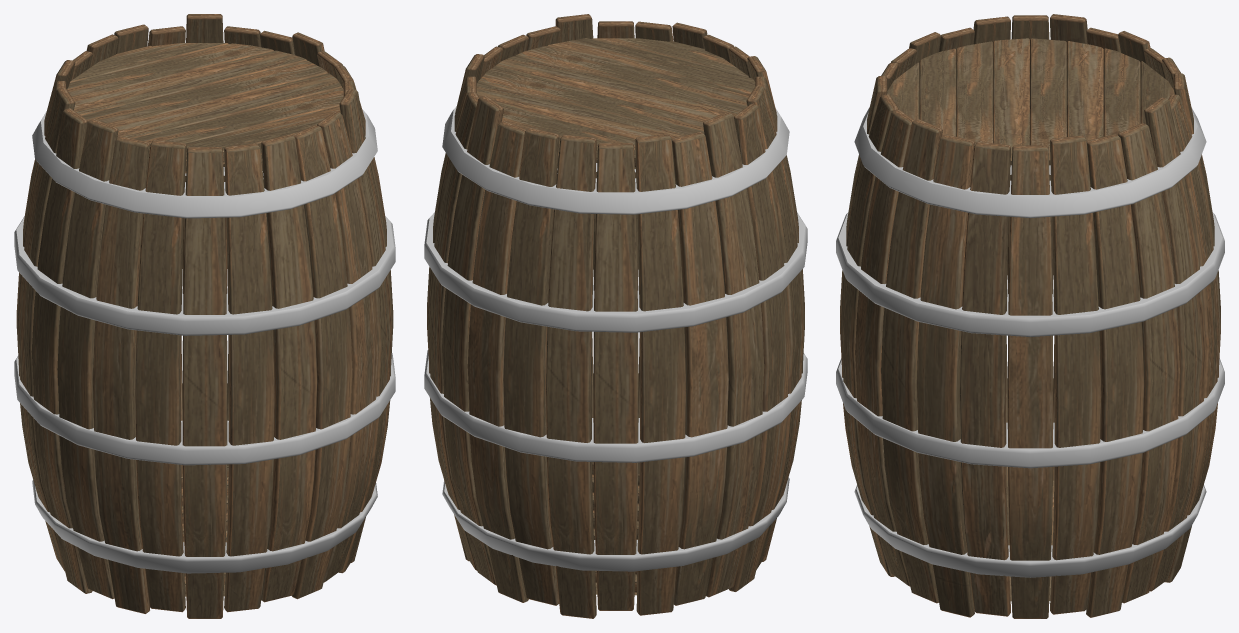
The model's file is SM_Barrel_01.fbx.
3 views of the same model, side by side, from view 1: azimuth 30°, elevation 25°; view 2: azimuth 150°, elevation 25°; view 3: azimuth 270°, elevation 25° (orthographic).
Visible parts, largest first — view 1: SM_Barrel_01_LOD0; view 2: SM_Barrel_01_LOD0; view 3: SM_Barrel_01_LOD0.
Boxes of the visible parts, left/top/right/bottom form: SM_Barrel_01_LOD0: left=14, top=14, right=395, bottom=618; SM_Barrel_01_LOD0: left=424, top=14, right=807, bottom=618; SM_Barrel_01_LOD0: left=836, top=14, right=1224, bottom=618.
Size of the model in its own units: 72.03 by 72.03 by 100.
